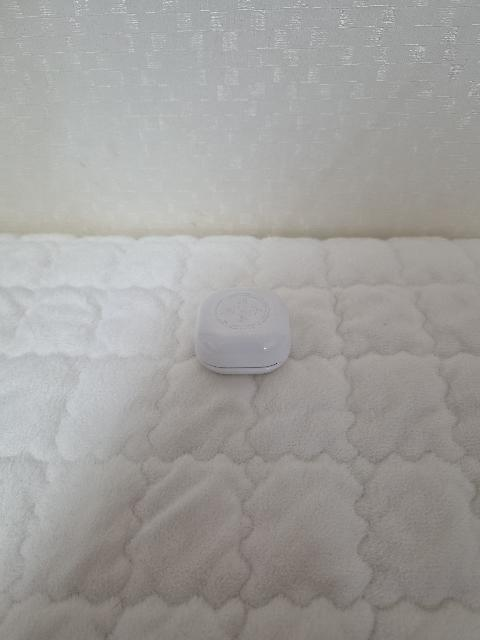earphone_case: (194, 288, 290, 375)
